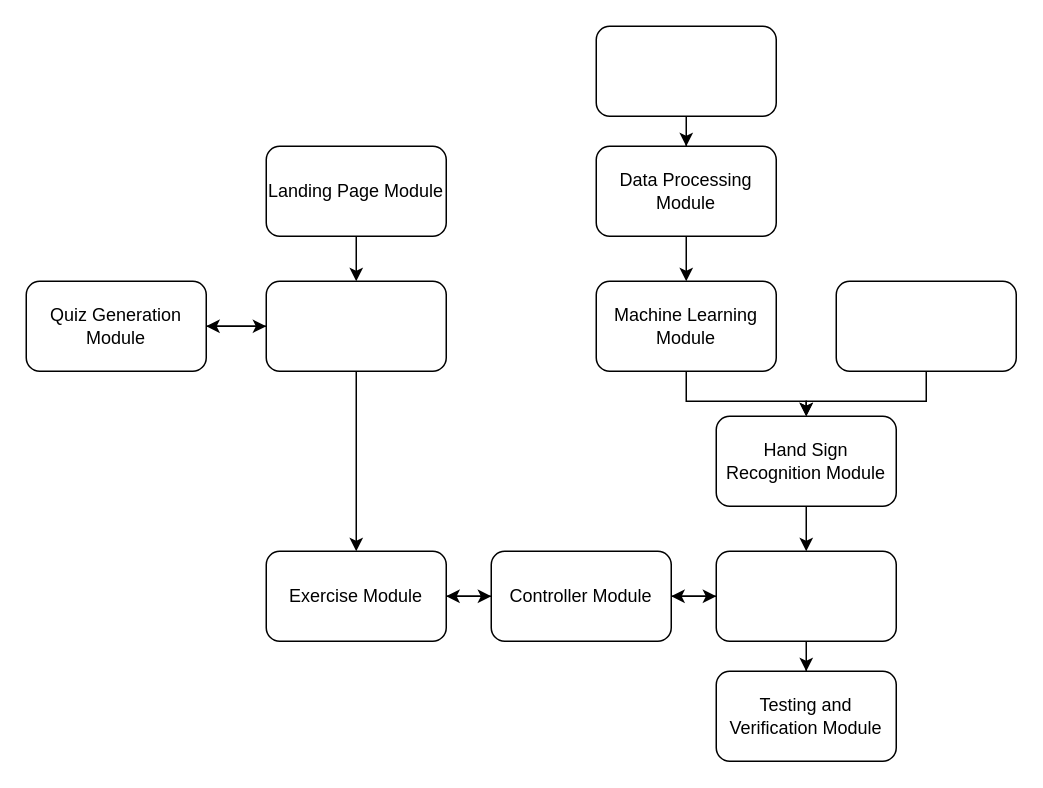
Some shapes in this 1043 by 788 pixel diagram are drawn without their labels. The centre of each missing label's shape, as x and y in pixels:
"Data Collection Module" goes at point 685,70.
"Exercise Selection Module" goes at point 355,325.
"Hand Sign Verification Module" goes at point 805,595.
"Video Input Module" goes at point 925,325.
